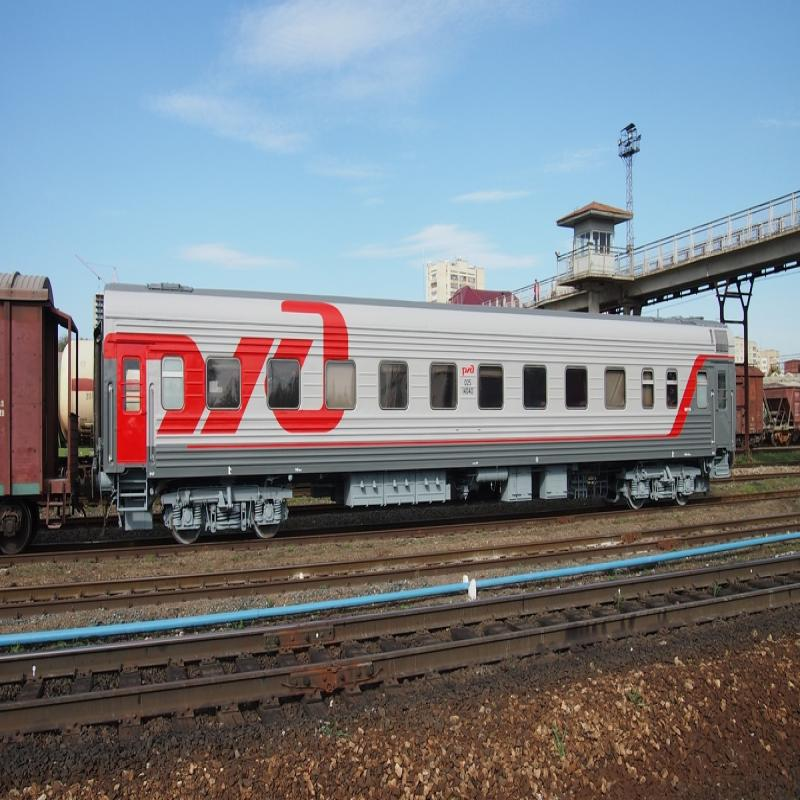train: (92, 284, 743, 540)
